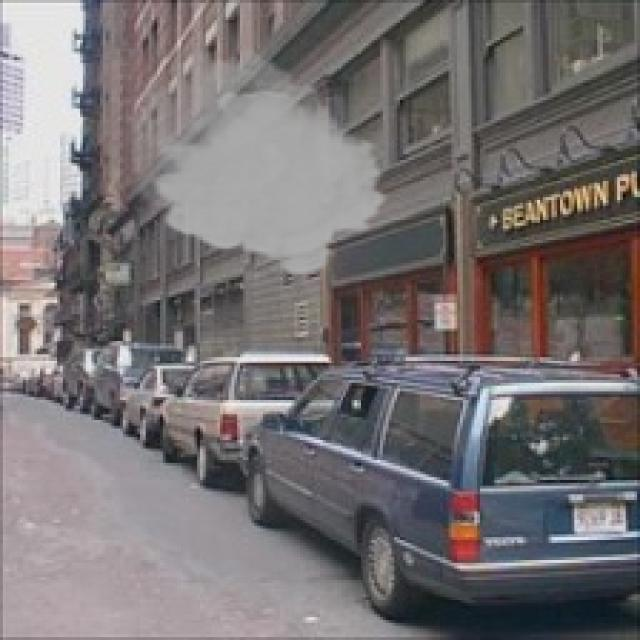smoke: (132, 40, 392, 277)
